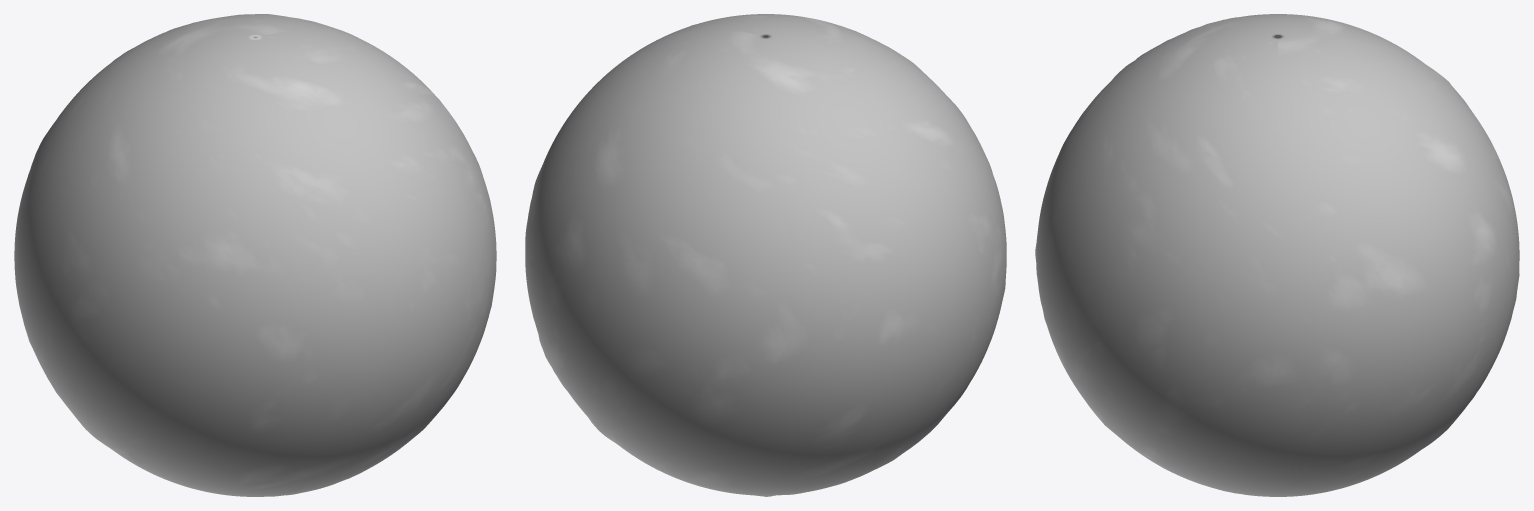
Rendered from test_planet.glb.
The picture shows the model from 3 angles, left to right: view 1: azimuth 30°, elevation 25°; view 2: azimuth 150°, elevation 25°; view 3: azimuth 270°, elevation 25°; orthographic projection.
Visible parts, largest first — view 1: clouds; view 2: clouds; view 3: clouds.
Part boxes in pixels (x1,y1,x2,y2): clouds: (14, 14, 496, 496); clouds: (525, 14, 1006, 496); clouds: (1035, 14, 1519, 496).
Bounding box in the file's own units: 0.7424 × 0.7438 × 0.7432.
Materials: 2 (2 with a texture image).
